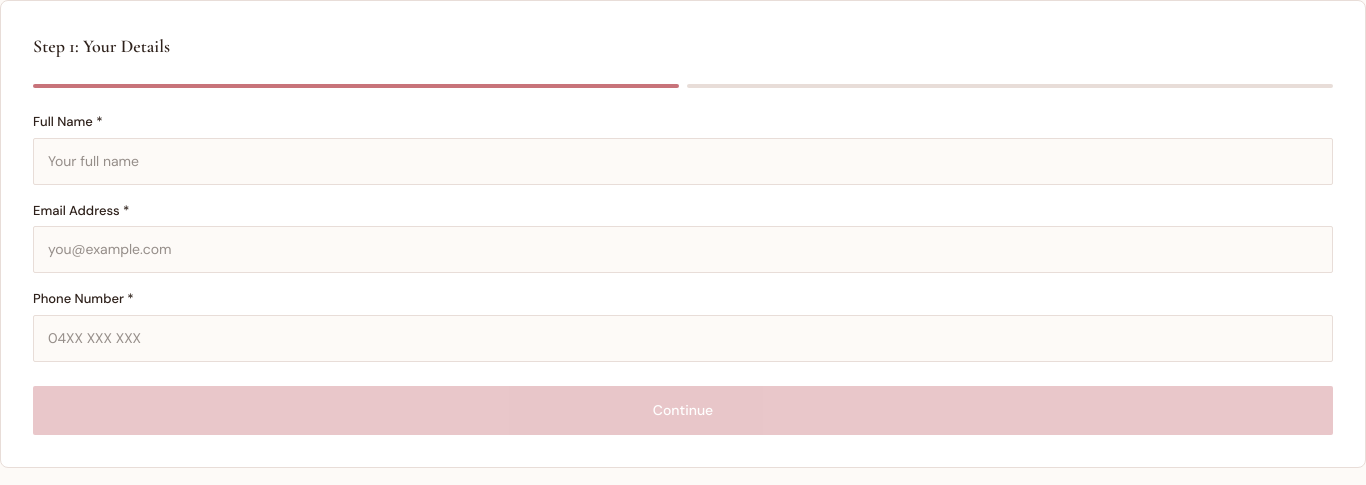
ClaimForm component › navigates to step 2 on continue click
In the field with placeholder "Your full name": (683,161) [33, 138, 1333, 184], type "John Smith"
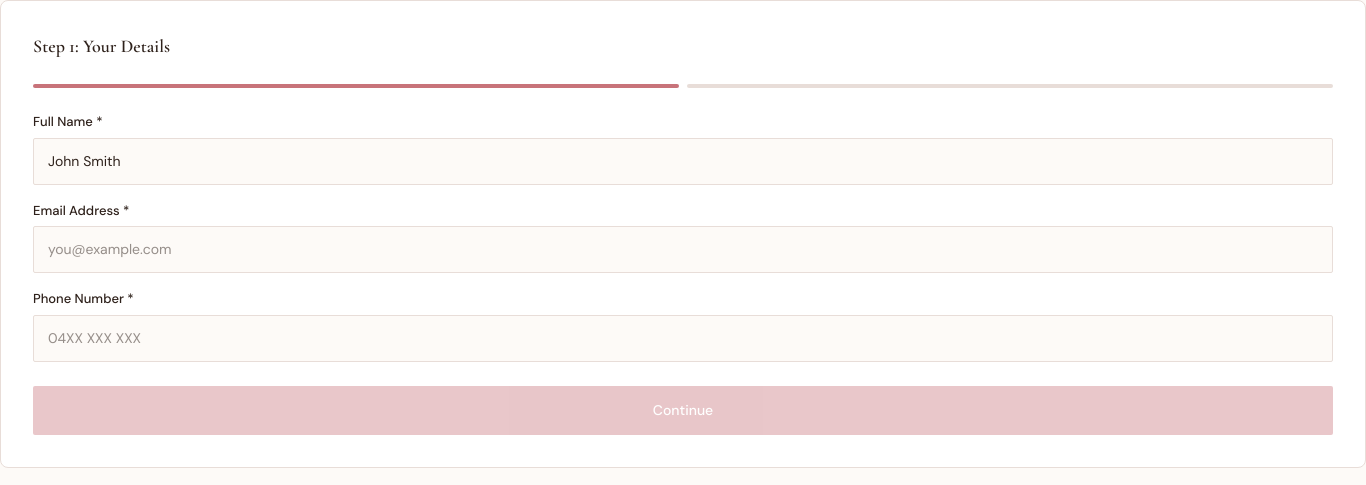
In the field with placeholder "you@example.com": (683,250) [33, 226, 1333, 273], type "john@test.com"
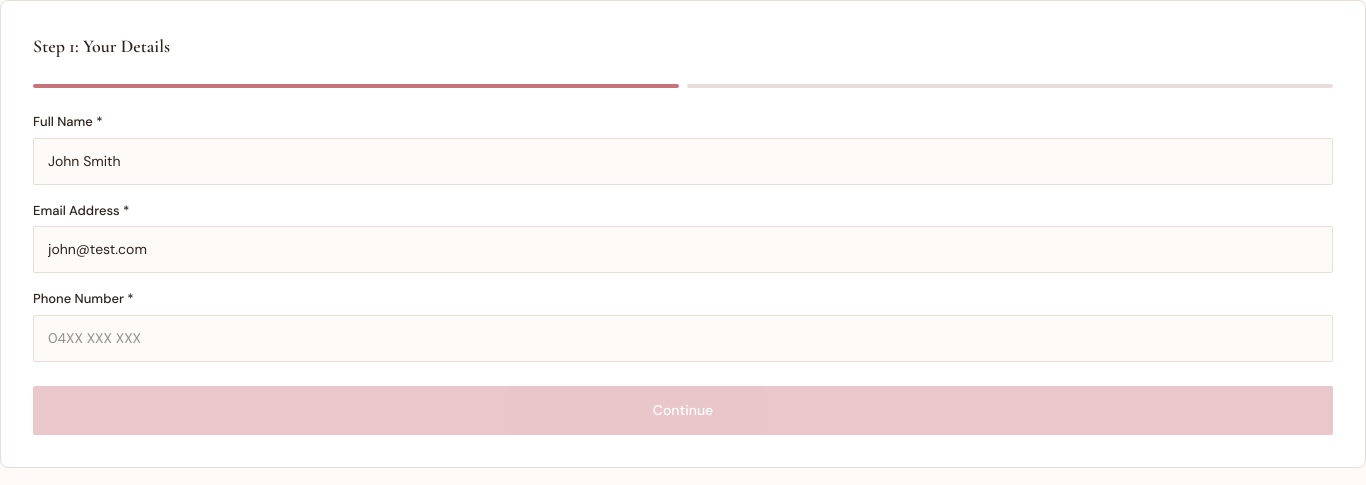
In the field with placeholder "04XX XXX XXX": (683,338) [33, 314, 1333, 362], type "0412 345 678"
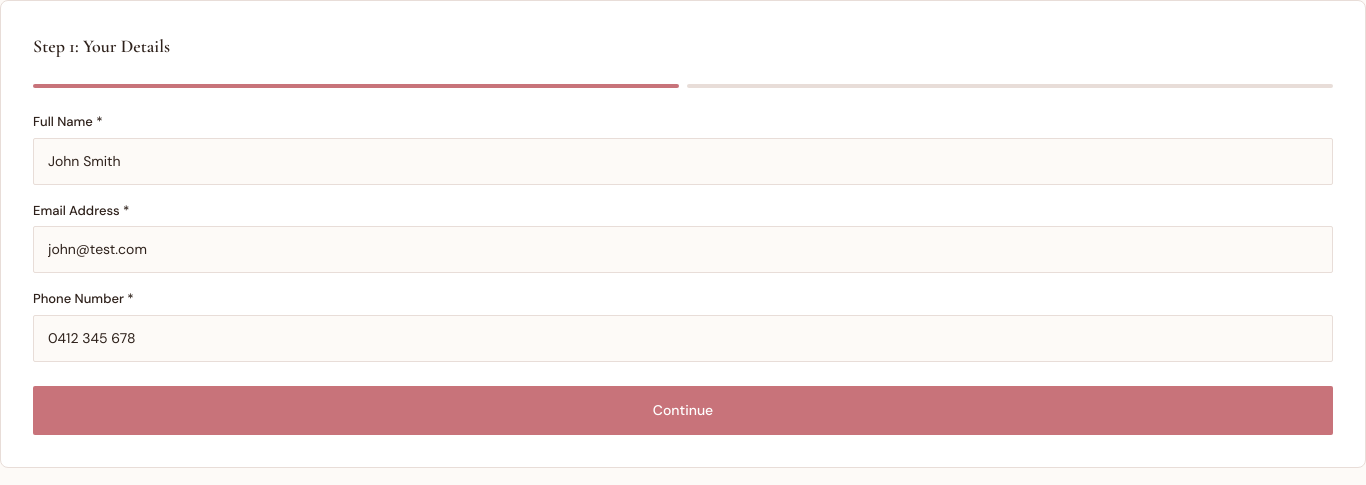
Click the button "Continue": (683,410) [33, 386, 1333, 434]
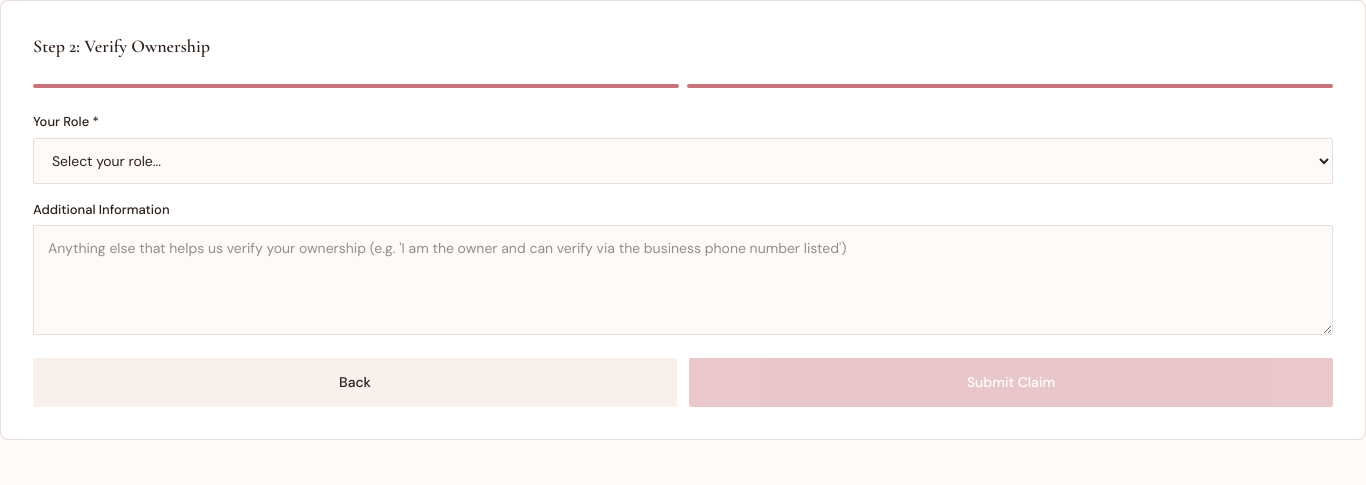
Now the heading "Step 2: Verify Ownership" is shown, box [33, 35, 210, 57]
Now the text "Your Role *" is shown, box [33, 113, 99, 130]
